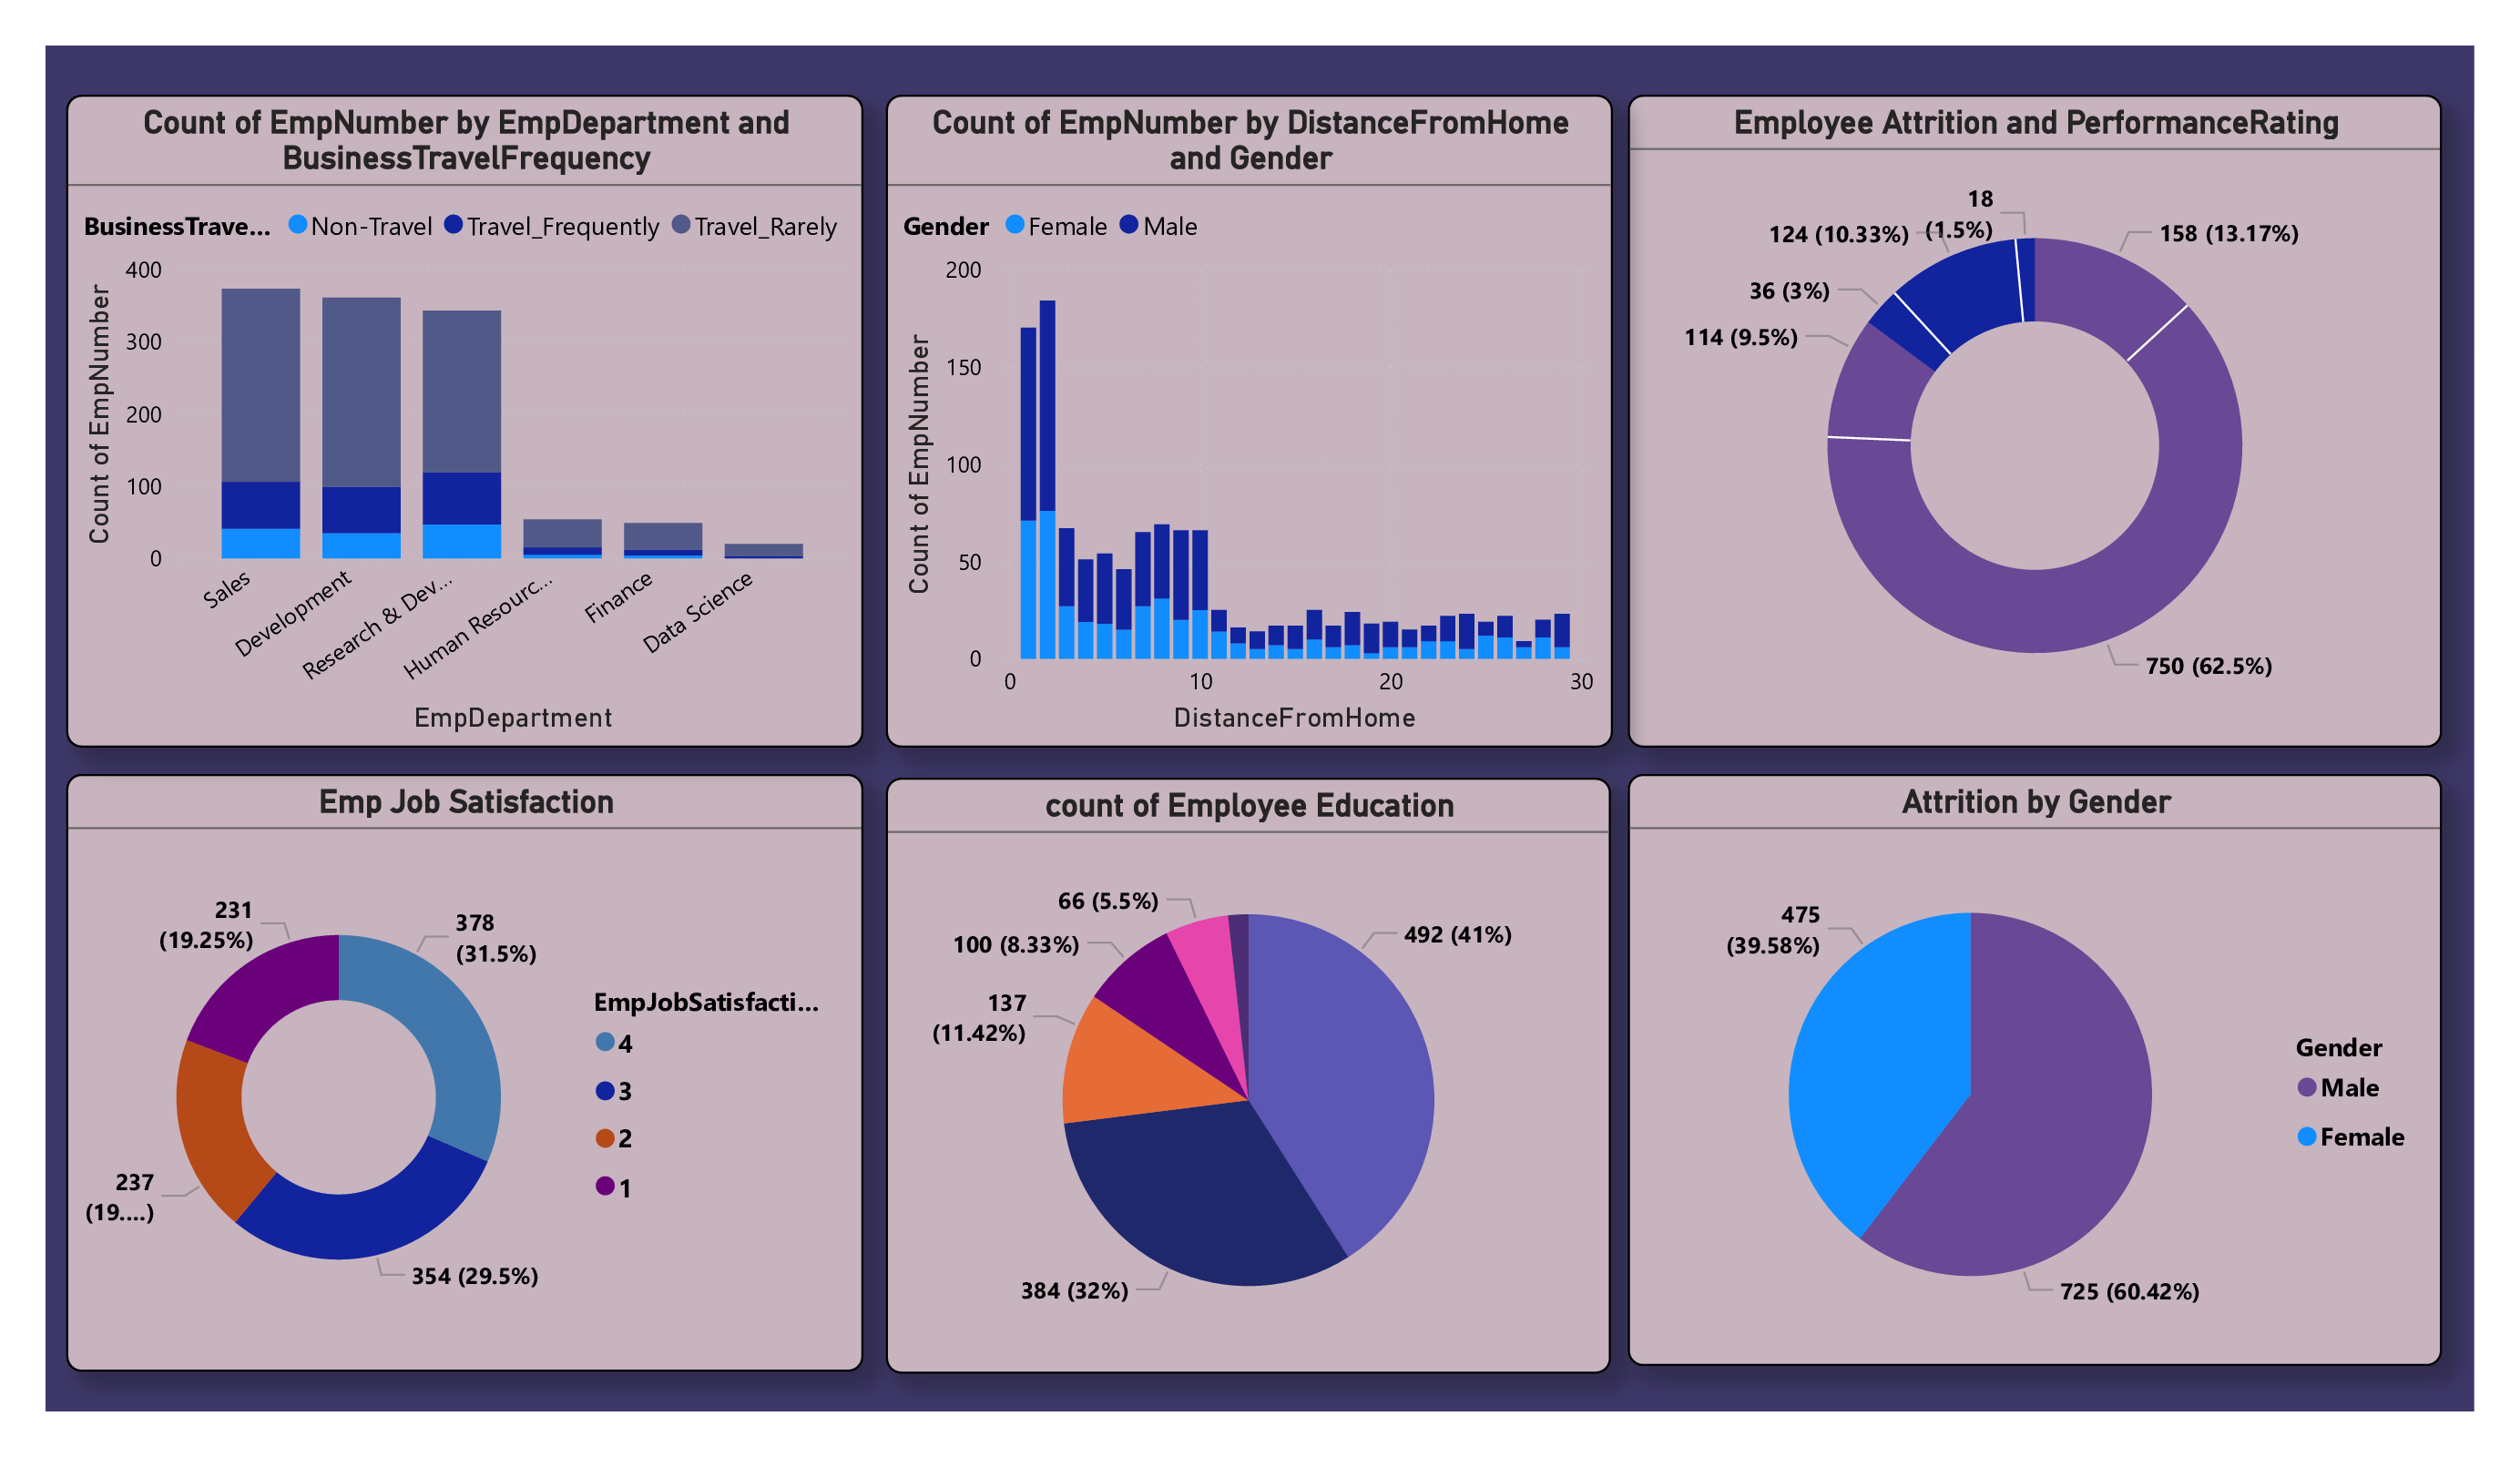

What the dashboard file says about the page in this screenshot:
{"tool":"powerbi","page":{"name":"Page 2","canvas":[1280,720],"ordinal":1},"visuals":[{"type":"donutChart","title":" Emp Job Satisfaction","fields":{"Category":["INX_Future_Inc_Employee_Perform.EmpJobSatisfaction"],"Y":["CountNonNull(INX_Future_Inc_Employee_Perform.EmpNumber)"]},"box":[11.4,384.3,420,314.3],"z":0},{"type":"donutChart","title":"Employee  Attrition and PerformanceRating","fields":{"Category":["INX_Future_Inc_Employee_Perform.Attrition"],"Y":["CountNonNull(INX_Future_Inc_Employee_Perform.EmpNumber)"],"Series":["INX_Future_Inc_Employee_Perform.PerformanceRating"]},"box":[834.3,25.7,428.6,344.3],"z":1000},{"type":"pieChart","title":"count of Employee Education","fields":{"Category":["INX_Future_Inc_Employee_Perform.EducationBackground"],"Y":["CountNonNull(INX_Future_Inc_Employee_Perform.EmpNumber)"]},"box":[442.8,386.1,382.4,313.7],"z":2000},{"type":"pieChart","title":" Attrition by Gender","fields":{"Category":["INX_Future_Inc_Employee_Perform.Gender"],"Y":["CountNonNull(INX_Future_Inc_Employee_Perform.Attrition)"]},"box":[834.3,384.3,428.6,311.4],"z":3000},{"type":"columnChart","fields":{"Category":["INX_Future_Inc_Employee_Perform.EmpDepartment"],"Series":["INX_Future_Inc_Employee_Perform.BusinessTravelFrequency"],"Y":["CountNonNull(INX_Future_Inc_Employee_Perform.EmpNumber)"]},"box":[11.4,25.7,420,344.3],"z":4000},{"type":"columnChart","fields":{"Y":["CountNonNull(INX_Future_Inc_Employee_Perform.EmpNumber)"],"Category":["INX_Future_Inc_Employee_Perform.DistanceFromHome"],"Series":["INX_Future_Inc_Employee_Perform.Gender"]},"box":[442.9,25.7,382.9,344.3],"z":5000}]}

Visuals, with their boxes in screenshot pixels (x1, y1, x2, y2):
" Emp Job Satisfaction" donutChart: locate(67, 775, 864, 1370)
"Employee  Attrition and PerformanceRating" donutChart: locate(1628, 95, 2442, 748)
"count of Employee Education" pieChart: locate(886, 778, 1611, 1373)
" Attrition by Gender" pieChart: locate(1628, 775, 2442, 1365)
columnChart - INX_Future_Inc_Employee_Perform.EmpDepartment x INX_Future_Inc_Employee_Perform.BusinessTravelFrequency: locate(67, 95, 864, 748)
columnChart - CountNonNull(INX_Future_Inc_Employee_Perform.EmpNumber) x INX_Future_Inc_Employee_Perform.DistanceFromHome: locate(886, 95, 1613, 748)
